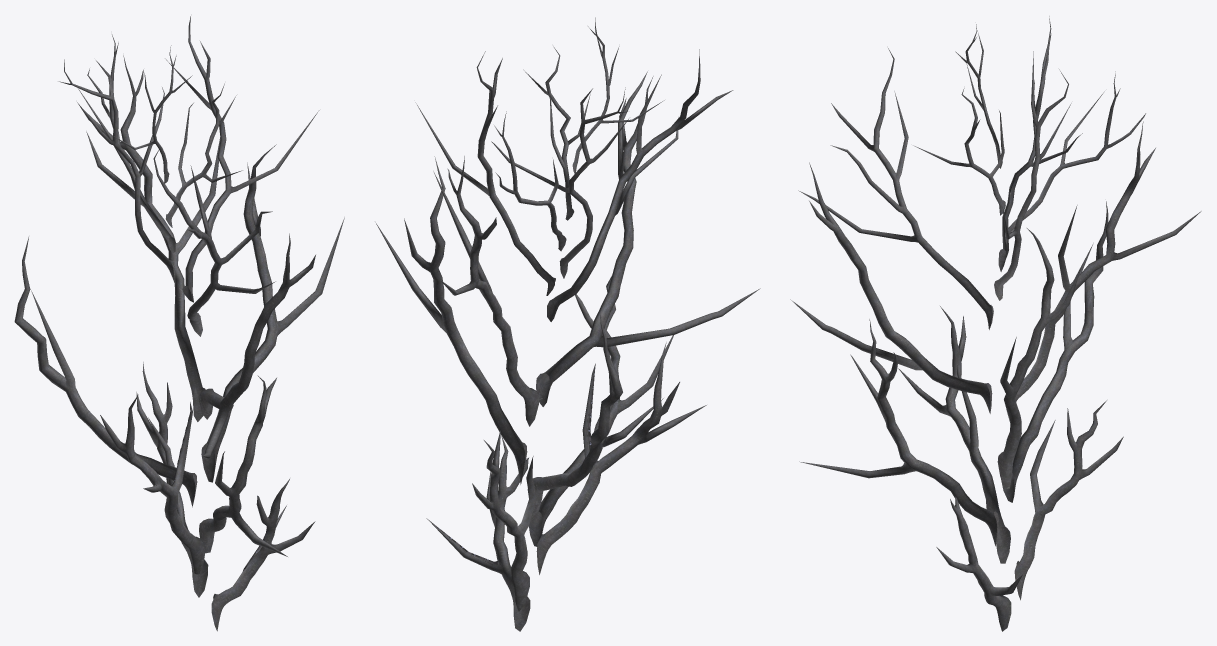
3 renders of one model, left to right at view 1: azimuth 30°, elevation 25°; view 2: azimuth 150°, elevation 25°; view 3: azimuth 270°, elevation 25°, orthographic. The views are drawn at different scales.
Visible parts, largest first — view 1: SM_FH_Ash_Canopy_03_LOD0; view 2: SM_FH_Ash_Canopy_03_LOD0; view 3: SM_FH_Ash_Canopy_03_LOD0.
Boxes of the visible parts, left/top/right/bottom form: SM_FH_Ash_Canopy_03_LOD0: left=14, top=16, right=344, bottom=631; SM_FH_Ash_Canopy_03_LOD0: left=375, top=17, right=760, bottom=631; SM_FH_Ash_Canopy_03_LOD0: left=790, top=16, right=1201, bottom=631.
Bounding box in the file's own units: 6.22 × 12.66 × 8.12.
